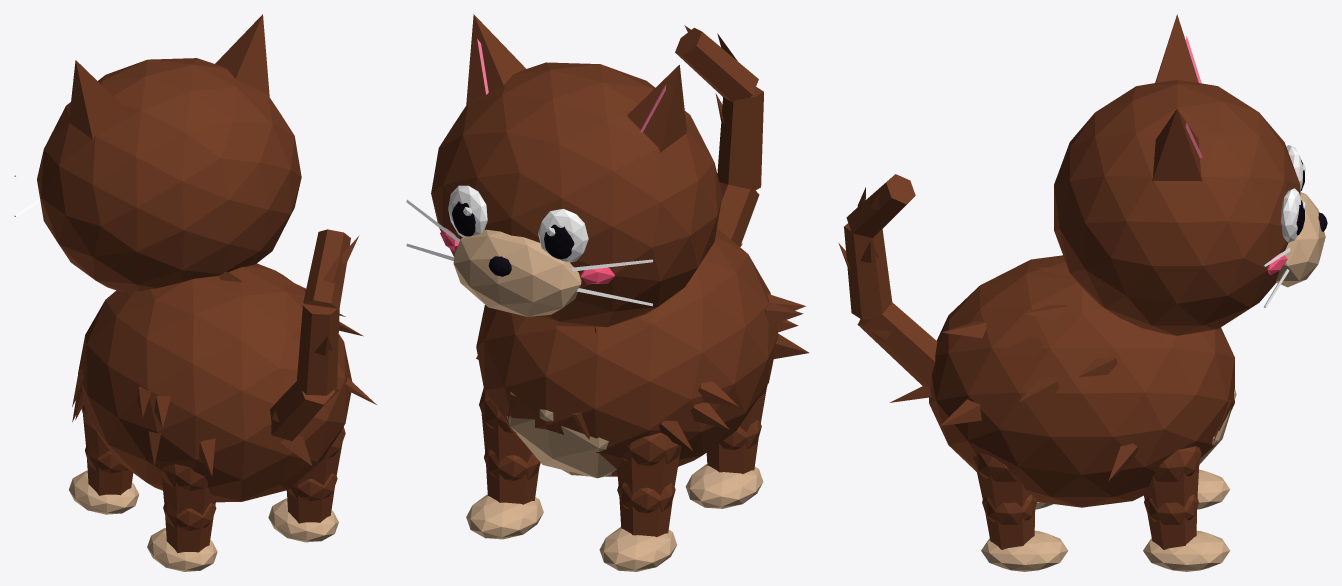
Rendered from mocha_cat.obj.
The picture shows the model from 3 angles, left to right: view 1: azimuth 30°, elevation 25°; view 2: azimuth 150°, elevation 25°; view 3: azimuth 270°, elevation 25°; orthographic projection. The views are drawn at different scales.
Visible parts, largest first — view 1: Head_2_m4, Body_1_m1, Tail2_12_m25, Tail3_13_m26, Tail1_11_m24, Leg3Lo_8_m18, Leg3Up_7_m17, Leg4Lo_10_m21, Leg1Lo_4_m12, Leg1Lo_4_m13, Leg4Lo_10_m22, Leg3Lo_8_m19 (+3 smaller); view 2: Head_2_m4, Body_1_m1, Head_2_m5, Tail2_12_m25, Body_1_m2, Head_2_m7, Tail3_13_m26, Leg1Up_3_m11, Leg1Lo_4_m13, Leg2Lo_6_m16, Leg3Lo_8_m19, Leg1Lo_4_m12 (+7 smaller); view 3: Body_1_m1, Head_2_m4, Tail2_12_m25, Tail1_11_m24, Leg2Up_5_m14, Tail3_13_m26, Leg2Lo_6_m16, Leg4Lo_10_m22, Head_2_m5, Body_1_m3, Leg2Lo_6_m15, Leg4Lo_10_m21 (+3 smaller).
Boxes of the visible parts, box(x1,y1,x2,y2) form: Head_2_m4: box(37, 14, 301, 292); Body_1_m1: box(72, 263, 376, 502); Tail2_12_m25: box(296, 304, 339, 395); Tail3_13_m26: box(303, 229, 359, 309); Tail1_11_m24: box(270, 381, 339, 440); Leg3Lo_8_m18: box(163, 501, 216, 552); Leg3Up_7_m17: box(162, 464, 216, 514); Leg4Lo_10_m21: box(286, 473, 337, 523); Leg1Lo_4_m12: box(85, 444, 133, 495); Leg1Lo_4_m13: box(69, 470, 139, 514); Leg4Lo_10_m22: box(268, 498, 338, 542); Leg3Lo_8_m19: box(147, 528, 217, 571); Head_2_m4: box(431, 14, 722, 327); Body_1_m1: box(476, 228, 805, 476); Head_2_m5: box(453, 229, 581, 316); Tail2_12_m25: box(715, 87, 763, 190); Body_1_m2: box(506, 409, 616, 478); Head_2_m7: box(406, 185, 653, 306); Tail3_13_m26: box(675, 25, 758, 102); Leg1Up_3_m11: box(617, 432, 681, 495); Leg1Lo_4_m13: box(599, 527, 677, 571); Leg2Lo_6_m16: box(466, 494, 543, 539); Leg3Lo_8_m19: box(685, 464, 763, 508); Leg1Lo_4_m12: box(617, 482, 675, 537); Body_1_m1: box(929, 255, 1234, 507); Head_2_m4: box(1054, 14, 1300, 335); Tail2_12_m25: box(838, 223, 892, 319); Tail1_11_m24: box(857, 302, 937, 387); Leg2Up_5_m14: box(1143, 446, 1201, 508); Tail3_13_m26: box(846, 174, 915, 237); Leg2Lo_6_m16: box(1143, 530, 1230, 571); Leg4Lo_10_m22: box(981, 530, 1068, 571); Head_2_m5: box(1276, 192, 1325, 287); Body_1_m3: box(889, 267, 1117, 402); Leg2Lo_6_m15: box(1144, 494, 1198, 549); Leg4Lo_10_m21: box(982, 494, 1036, 549).
Size of the model in its own units: 1.55 by 2.75 by 2.57.
